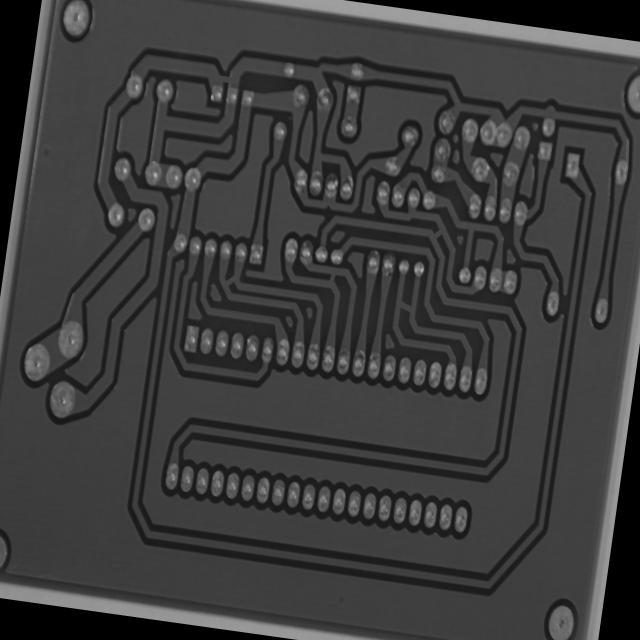short: (391, 291, 421, 327), (210, 61, 240, 97), (214, 264, 244, 298), (318, 263, 344, 293), (424, 220, 449, 249)
